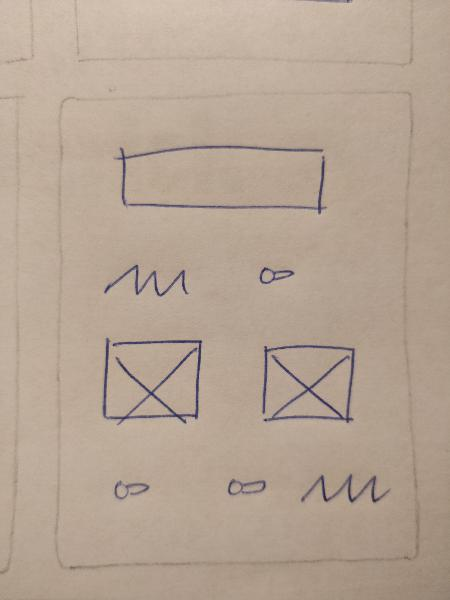image: (92, 325, 214, 430), (253, 332, 366, 431)
switch: (216, 464, 277, 501), (249, 256, 304, 292), (106, 471, 162, 504)
text: (295, 460, 398, 518), (96, 254, 199, 305)
text_input: (107, 134, 334, 220)
